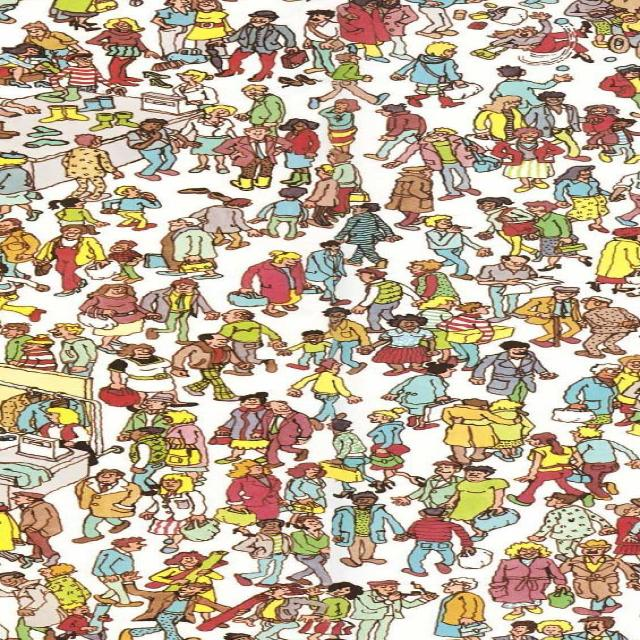waldo: (54, 53, 96, 68)
